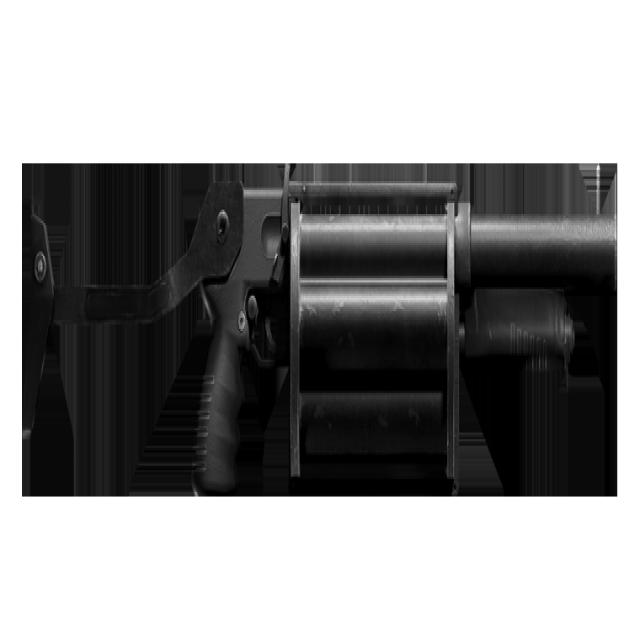Lancher: (18, 135, 638, 549)
